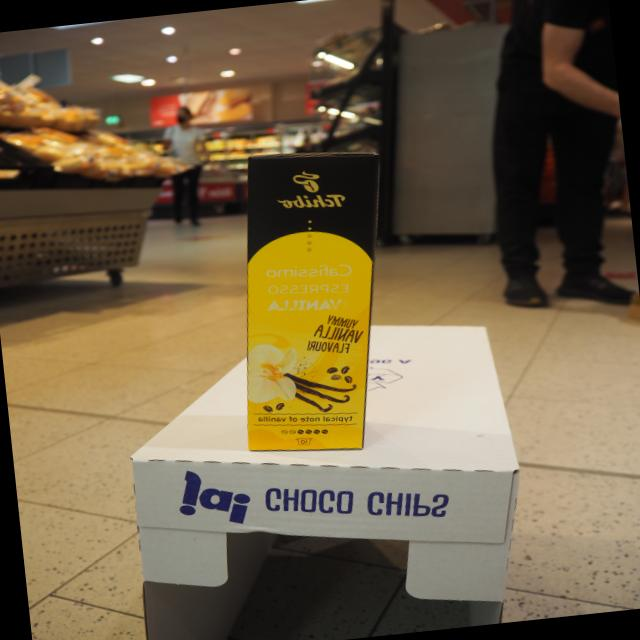Simo Es Vanilla: (244, 148, 387, 452)
